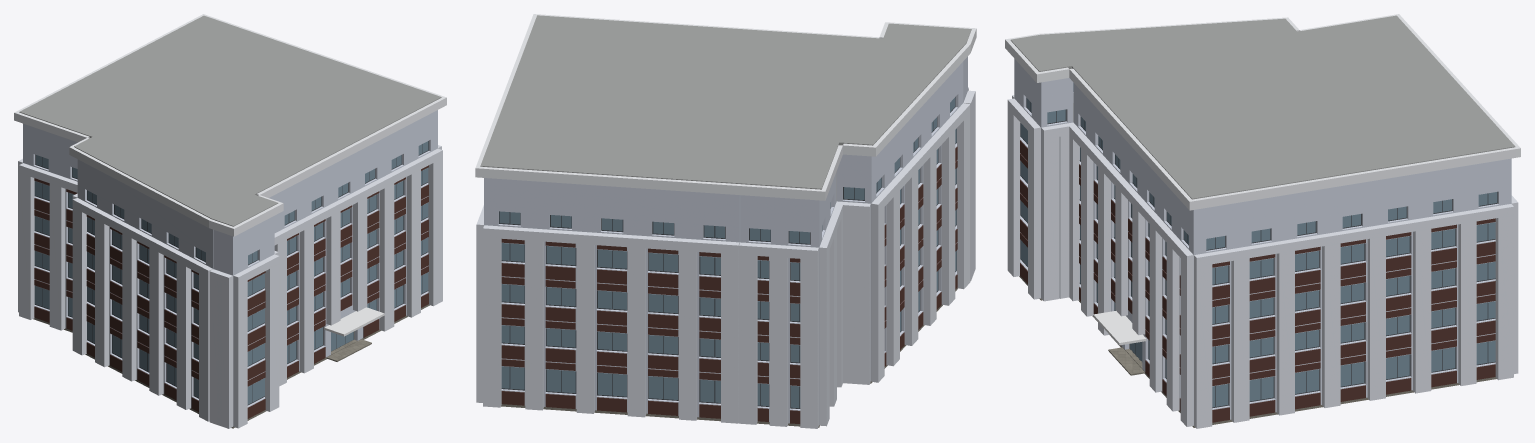
The picture shows the model from 3 angles, left to right: view 1: azimuth 30°, elevation 25°; view 2: azimuth 150°, elevation 25°; view 3: azimuth 270°, elevation 25°; orthographic projection. The views are drawn at different scales.
Visible parts, largest first — view 1: art-wing__greyroof, art-wing__pier, art-wing__white, art-wing__spandrel, art-wing__glass, art-wing__fascia, art-wing__darkframe, art-wing__canopy, art-wing__stone; view 2: art-wing__pier, art-wing__greyroof, art-wing__white, art-wing__spandrel, art-wing__glass, art-wing__fascia, art-wing__darkframe, art-wing__stone; view 3: art-wing__pier, art-wing__greyroof, art-wing__white, art-wing__spandrel, art-wing__glass, art-wing__fascia, art-wing__darkframe, art-wing__canopy, art-wing__stone.
Boxes of the visible parts, left/top/right/bottom form: art-wing__greyroof: left=19, top=15, right=441, bottom=226; art-wing__pier: left=18, top=145, right=442, bottom=428; art-wing__white: left=23, top=110, right=437, bottom=425; art-wing__spandrel: left=34, top=165, right=428, bottom=418; art-wing__glass: left=34, top=141, right=428, bottom=404; art-wing__fascia: left=14, top=14, right=446, bottom=236; art-wing__darkframe: left=34, top=141, right=428, bottom=405; art-wing__canopy: left=324, top=307, right=384, bottom=336; art-wing__stone: left=33, top=304, right=429, bottom=428; art-wing__pier: left=476, top=87, right=975, bottom=428; art-wing__greyroof: left=480, top=15, right=971, bottom=189; art-wing__white: left=484, top=56, right=967, bottom=424; art-wing__spandrel: left=501, top=146, right=957, bottom=423; art-wing__glass: left=499, top=97, right=956, bottom=408; art-wing__fascia: left=475, top=14, right=976, bottom=200; art-wing__darkframe: left=499, top=97, right=956, bottom=408; art-wing__stone: left=501, top=288, right=957, bottom=427; art-wing__pier: left=1007, top=95, right=1518, bottom=428; art-wing__greyroof: left=1010, top=15, right=1515, bottom=199; art-wing__white: left=1014, top=59, right=1511, bottom=424; art-wing__spandrel: left=1020, top=140, right=1495, bottom=422; art-wing__glass: left=1020, top=82, right=1497, bottom=407; art-wing__fascia: left=1005, top=14, right=1520, bottom=210; art-wing__darkframe: left=1020, top=98, right=1497, bottom=408; art-wing__canopy: left=1093, top=311, right=1146, bottom=345; art-wing__stone: left=1019, top=276, right=1496, bottom=427.
Size of the model in its own units: 36.76 by 21.07 by 42.66.
10 materials, 3 textured.
